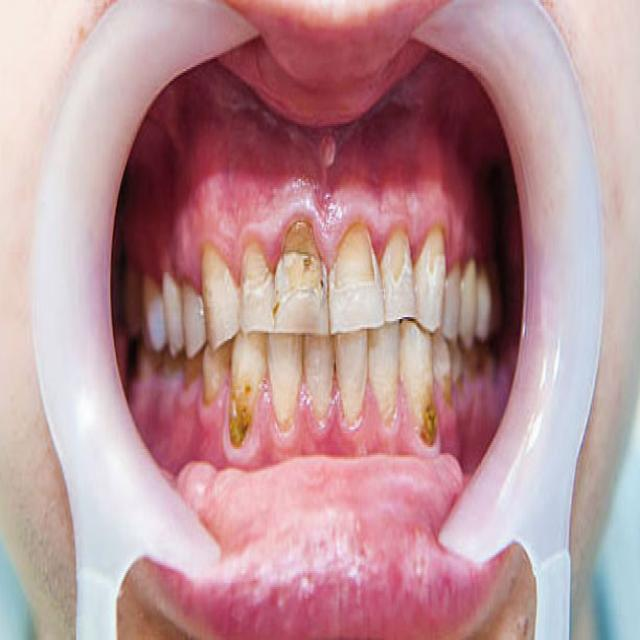caries: (272, 216, 326, 304), (330, 220, 376, 292), (237, 239, 270, 303), (383, 226, 412, 289), (420, 224, 449, 283)
